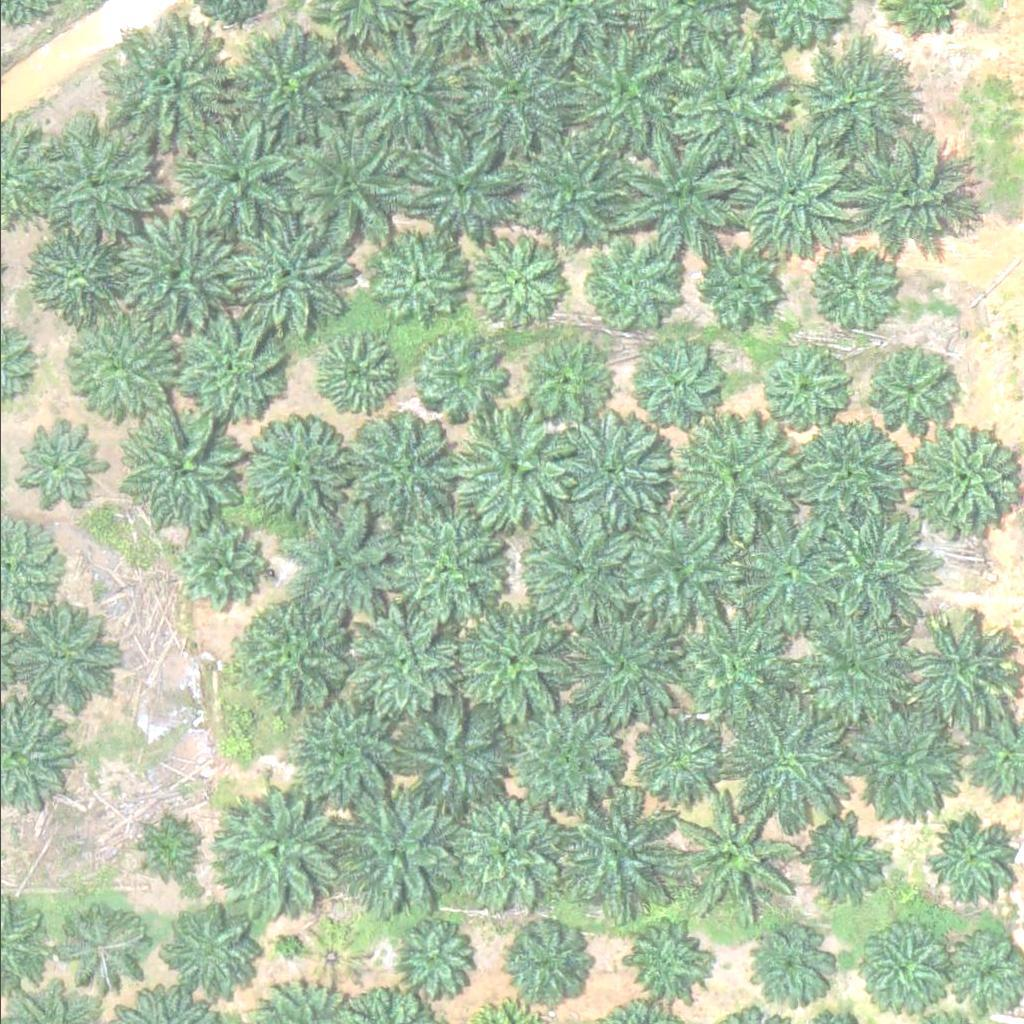Kelapa_Sawit: (791, 603, 917, 728), (663, 608, 789, 733), (551, 608, 677, 733), (441, 602, 567, 727), (228, 596, 354, 721), (277, 506, 403, 631), (381, 502, 507, 627), (614, 509, 740, 634), (722, 514, 848, 639), (802, 508, 928, 633), (782, 412, 908, 537), (553, 411, 679, 536), (448, 407, 574, 532), (115, 405, 241, 530), (161, 312, 287, 437), (224, 221, 350, 346), (108, 206, 234, 331), (399, 121, 525, 246), (849, 134, 975, 259), (728, 129, 854, 254), (616, 130, 742, 255), (501, 134, 627, 259), (793, 43, 919, 168), (668, 38, 794, 163), (565, 31, 691, 156), (452, 32, 578, 157), (344, 28, 470, 153), (106, 17, 232, 142), (42, 115, 168, 240), (720, 693, 846, 818), (494, 693, 620, 818), (387, 690, 513, 815), (278, 691, 404, 816), (323, 785, 449, 910), (211, 793, 337, 918), (551, 793, 677, 918), (667, 790, 793, 915), (344, 592, 469, 717), (512, 506, 637, 631), (672, 423, 797, 548), (174, 115, 299, 240), (286, 123, 411, 248), (842, 697, 967, 822), (449, 788, 574, 913), (908, 417, 1022, 530), (70, 317, 184, 430), (337, 410, 450, 523), (234, 415, 347, 528), (235, 22, 348, 135), (576, 235, 677, 335), (466, 230, 567, 330), (366, 227, 467, 327), (806, 237, 906, 337), (28, 217, 128, 317), (163, 898, 263, 998), (47, 890, 147, 990), (420, 331, 508, 419), (639, 342, 727, 430), (633, 718, 721, 806), (854, 921, 942, 1009), (739, 926, 827, 1014), (627, 914, 715, 1002), (510, 918, 598, 1006), (800, 818, 889, 905), (179, 522, 267, 609), (316, 334, 404, 421), (521, 342, 609, 429), (762, 349, 850, 436), (861, 348, 949, 435), (689, 242, 777, 329), (16, 420, 104, 507), (930, 813, 1018, 900), (391, 917, 479, 1004), (126, 807, 202, 882), (303, 924, 366, 986)
